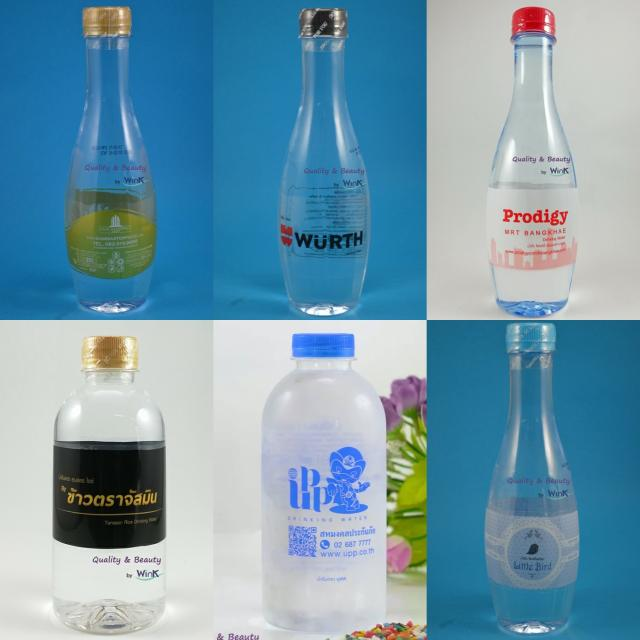plastik: (261, 333, 386, 633), (52, 337, 166, 633), (485, 323, 579, 634), (486, 6, 579, 316), (65, 6, 158, 313), (278, 8, 370, 316)
